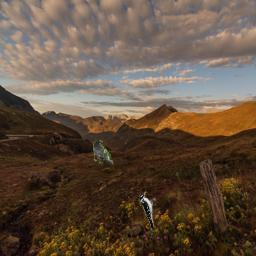Crow: (93, 140, 114, 165)
Woodpecker: (139, 192, 155, 232)
